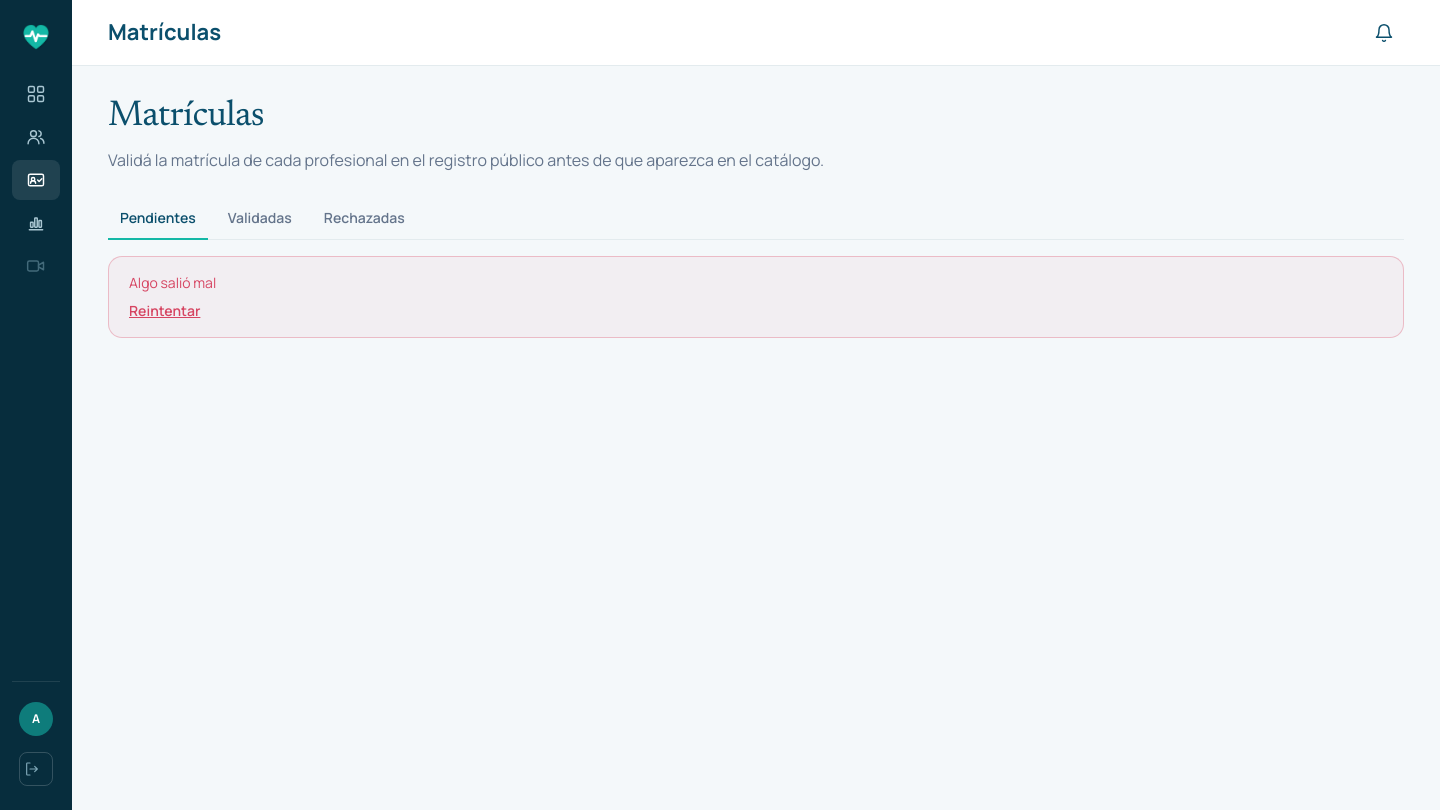
Matrículas › si la cola no carga, avisa y deja reintentar
This screenshot has width=1440, height=810.
What coordinates should you click on to do the following:
click the button "Reintentar"
I would click on:
 (165, 311)
Its box is 129,301 -> 200,321.
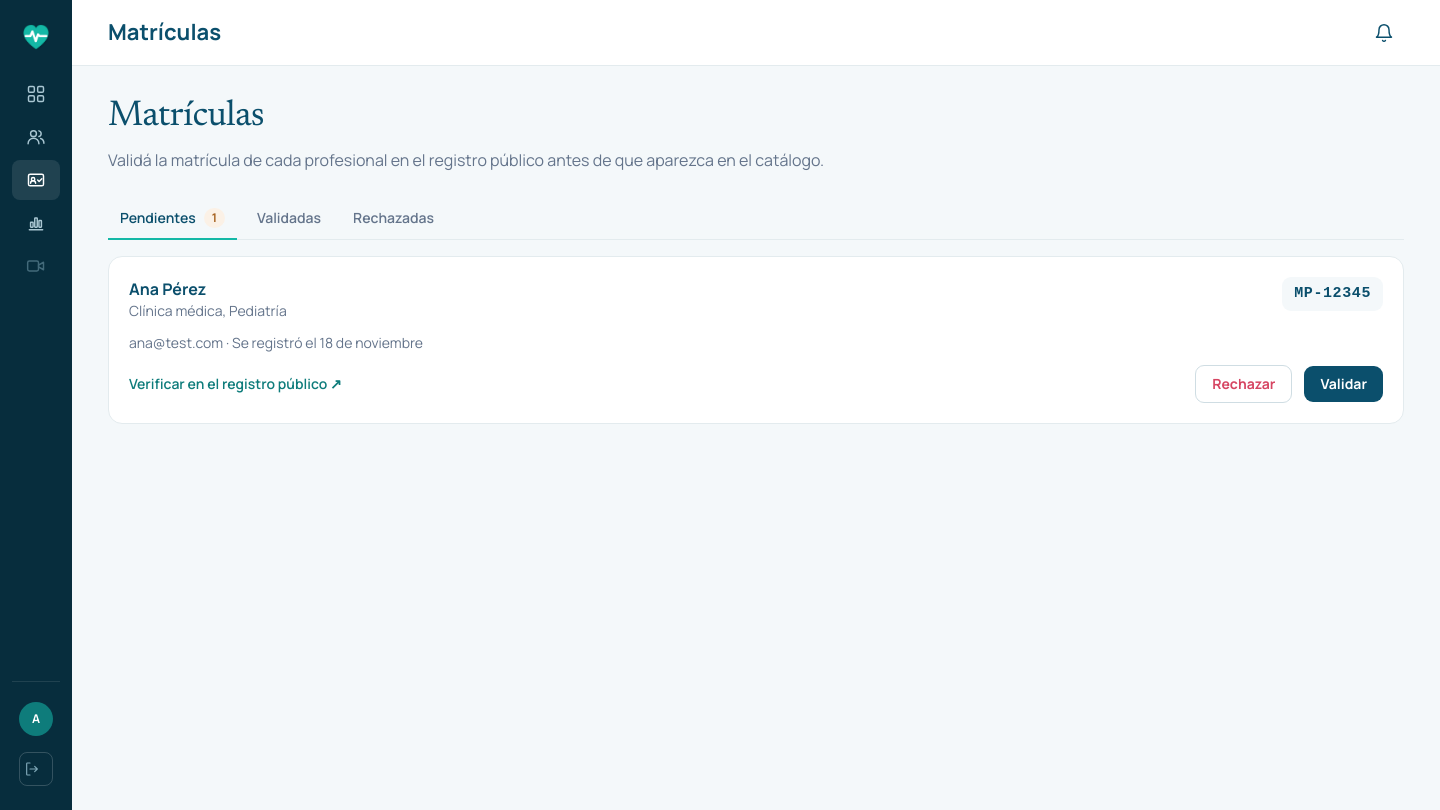
Result: the text "Ana Pérez" is shown at 129,278 -> 206,300
